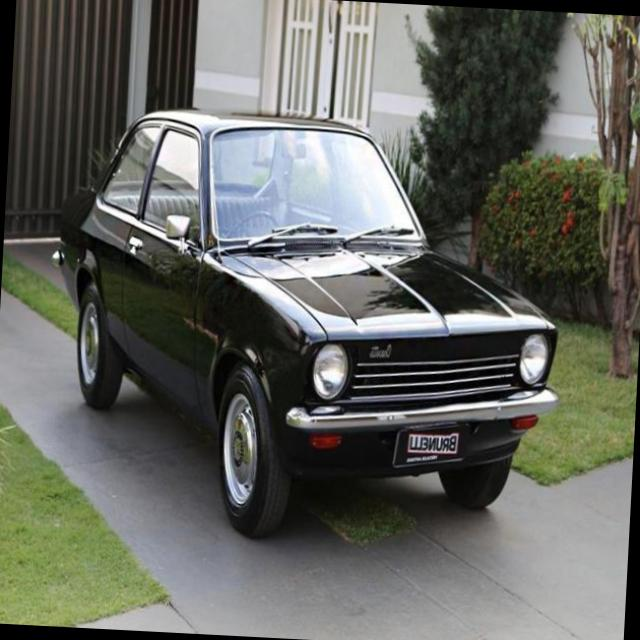car: (39, 105, 573, 554)
